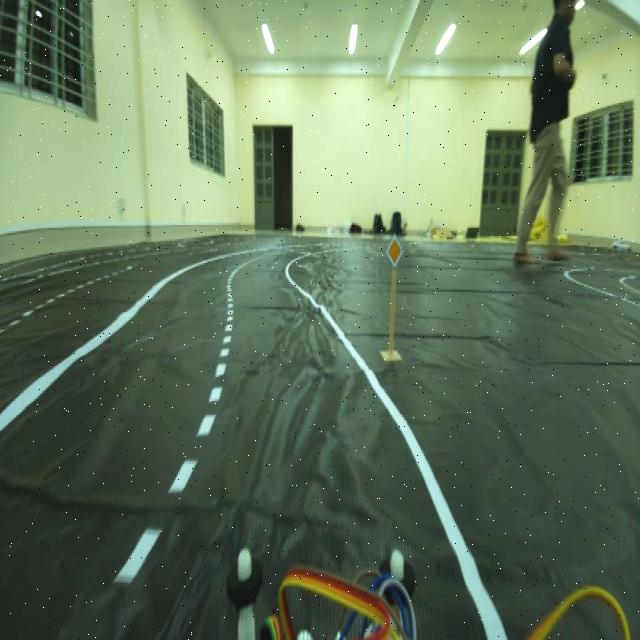priority: (382, 218, 407, 281)
